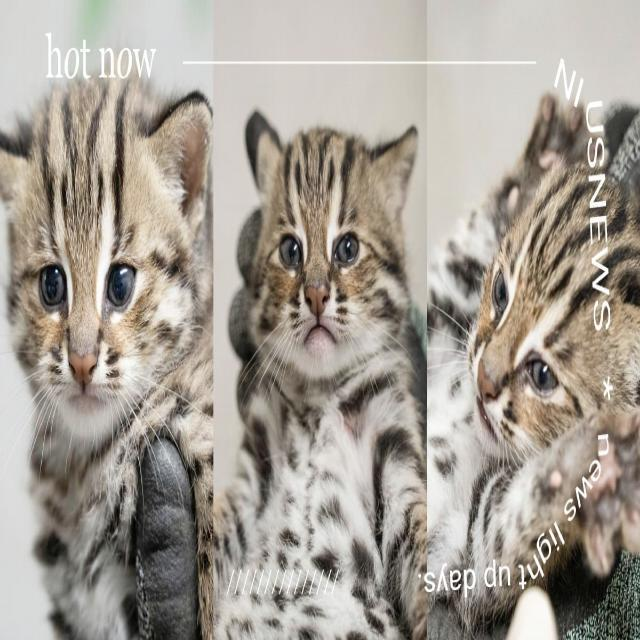leopard: (442, 135, 640, 522), (19, 107, 213, 357), (256, 110, 396, 402)
